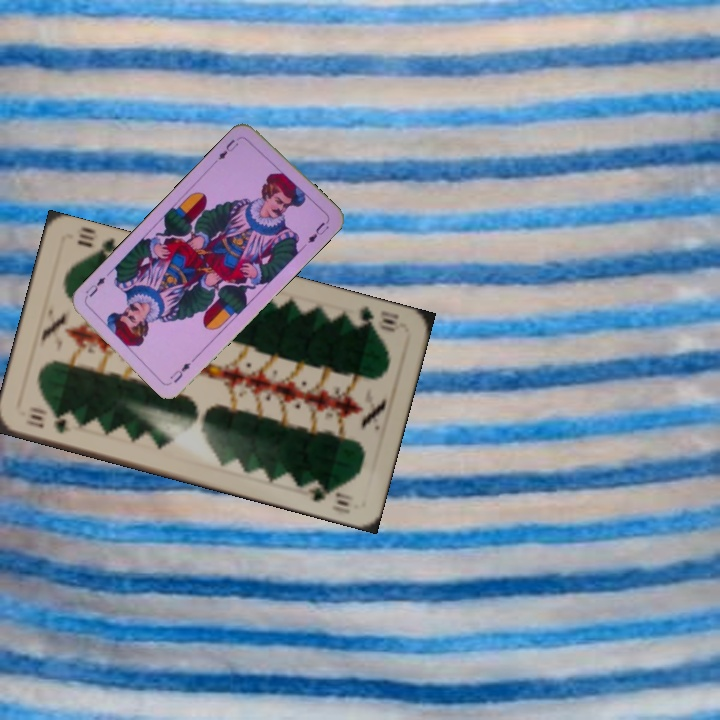EU: (214, 133, 243, 163), (165, 358, 194, 386)
G10: (345, 302, 406, 335), (21, 410, 72, 436)
